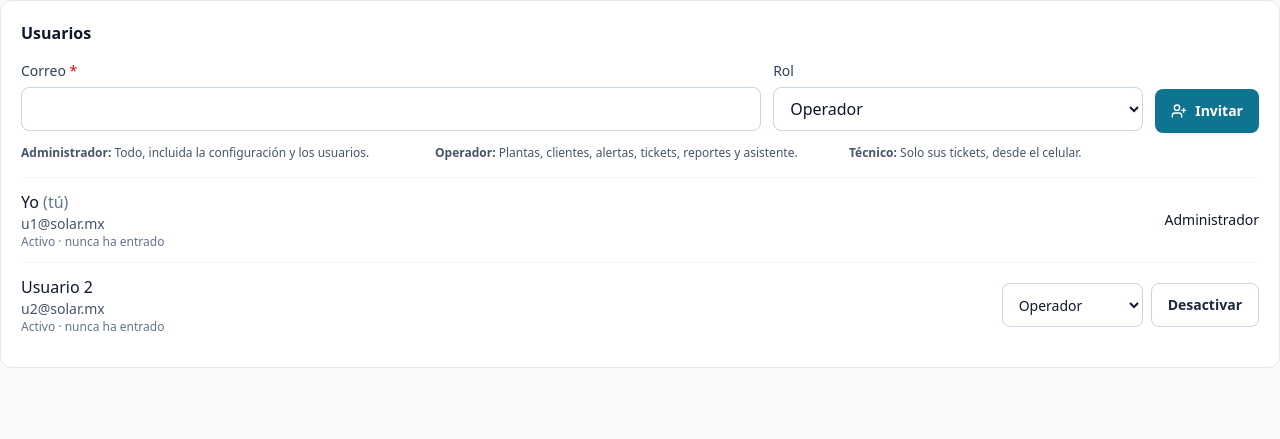
usuarios › invita, cambia el rol y desactiva; a uno mismo no se le ofrecen controles
Expected: the text "(tú)" is shown, [39,191,68,213]
Type "nuevo@solar.mx" into the field labelled "Correo *" at coordinates (391, 109), box [21,87,761,131]
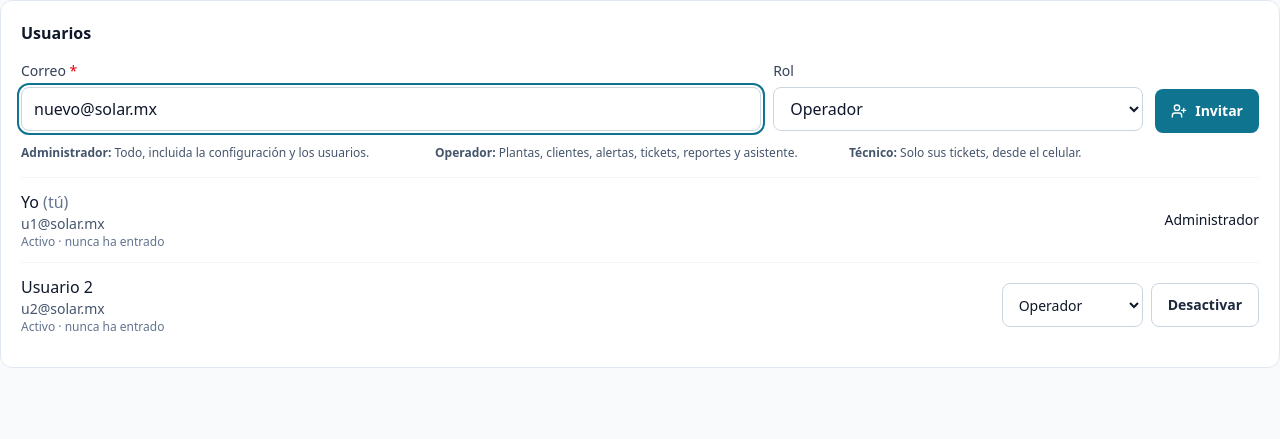
Select "Técnico" in the dropdown labelled "Rol" at coordinates (958, 109), box [773,87,1143,131]
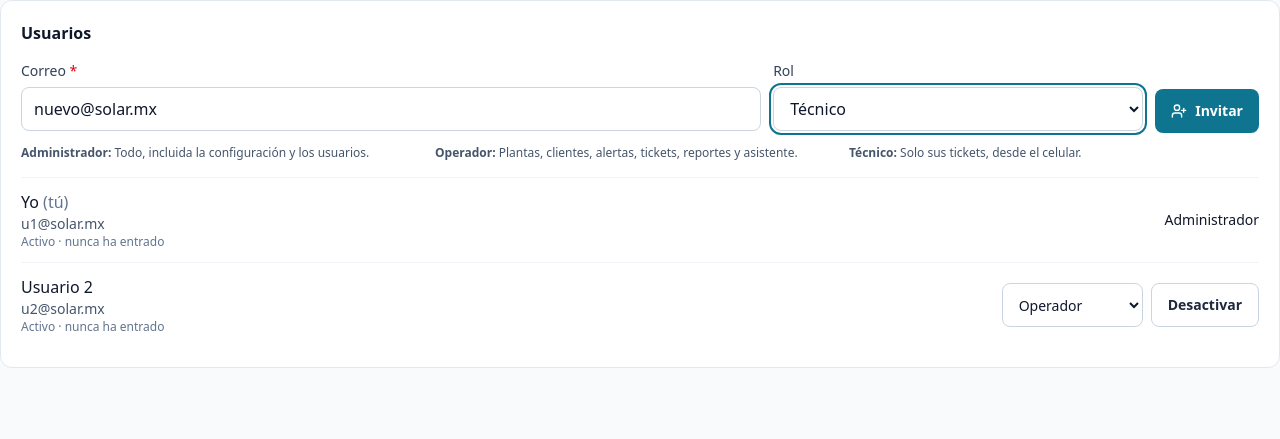
Click the button "Invitar" at coordinates (1207, 111), box [1155,89,1259,133]
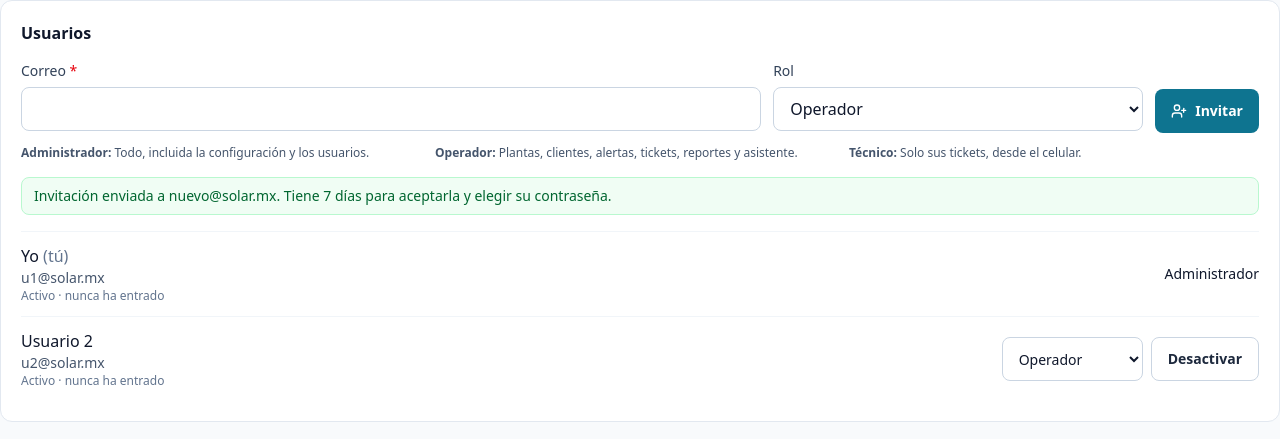
Result: the text "Invitación enviada a nuevo@solar.mx" is shown at [21,177,1259,215]
Select "Técnico" in the dropdown named "Rol de Usuario 2" at coordinates (1072, 359), box [1002,337,1143,381]
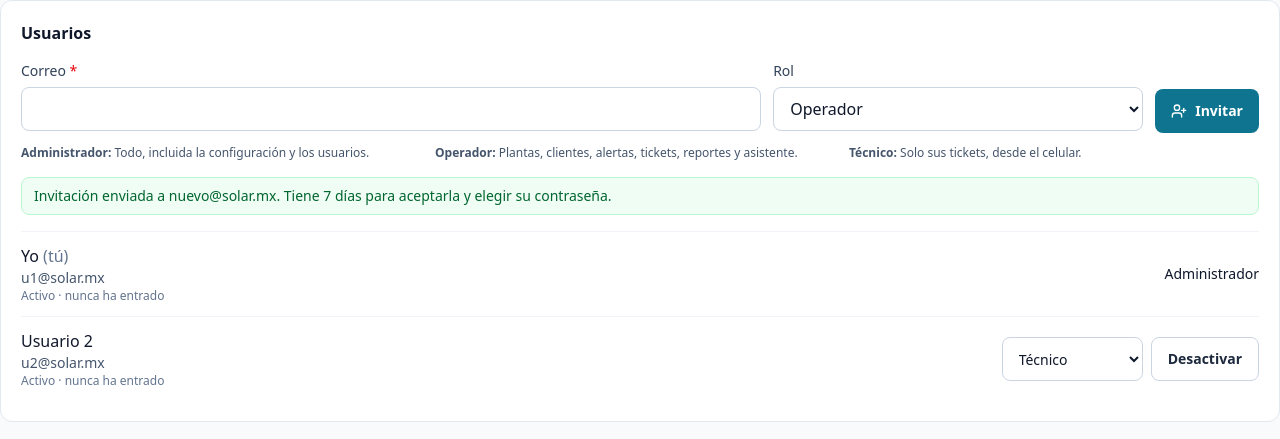
Click the button "Desactivar" at coordinates (1205, 359), box [1151,337,1259,381]
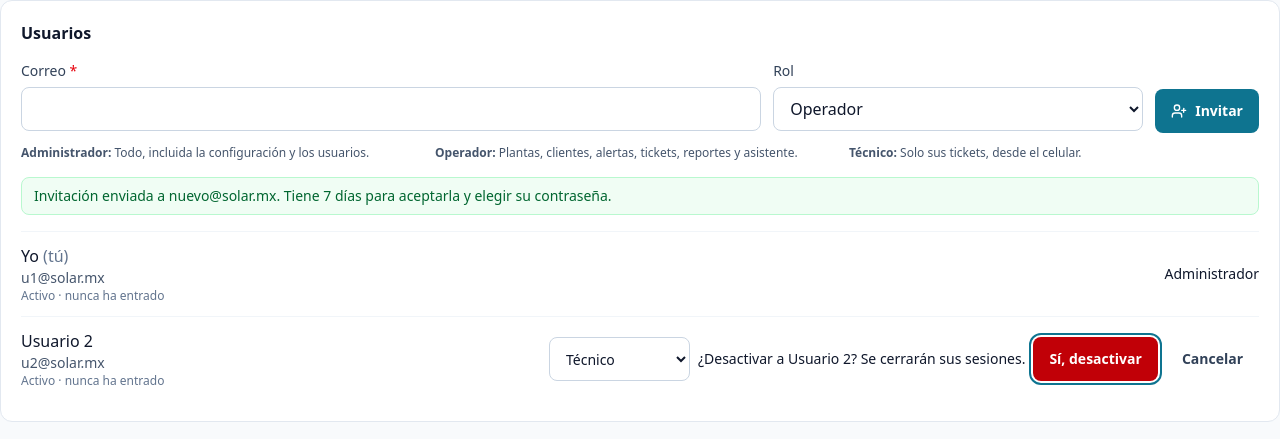
Click the button "Sí, desactivar" at coordinates (1096, 359), box [1033,337,1158,381]
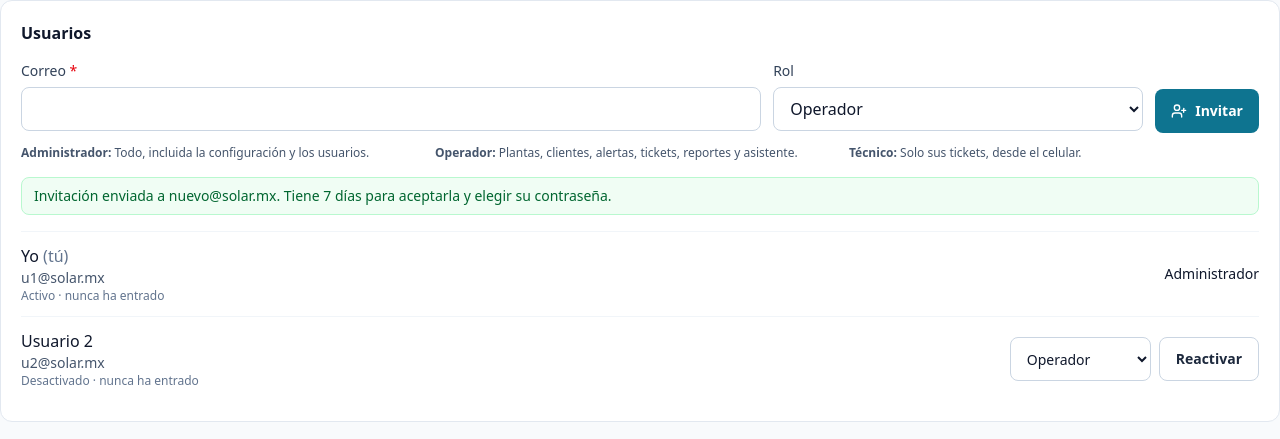
Result: the button "Reactivar" is shown at [1159,337,1259,381]
